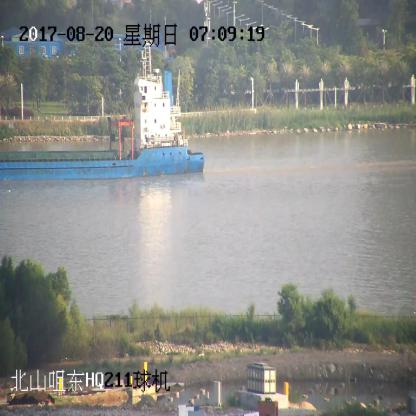Bulk Carrier: (0, 54, 206, 178)
